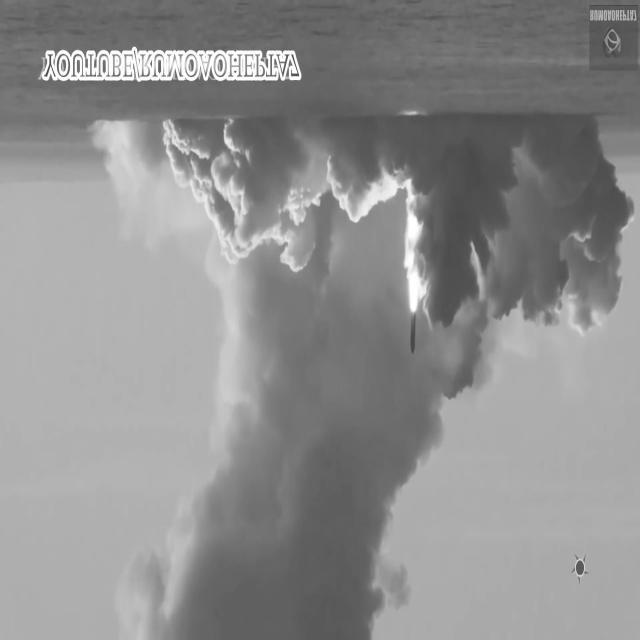missile: (406, 298, 420, 366)
